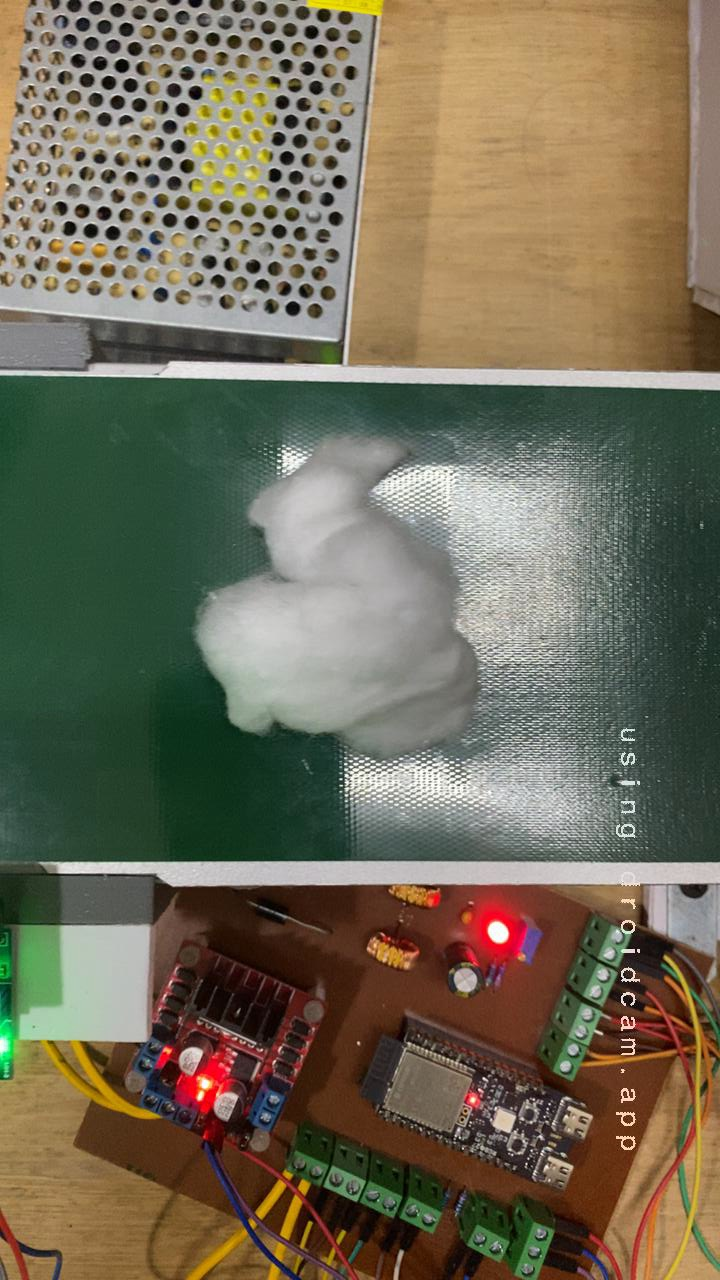cotton: (161, 408, 514, 767)
